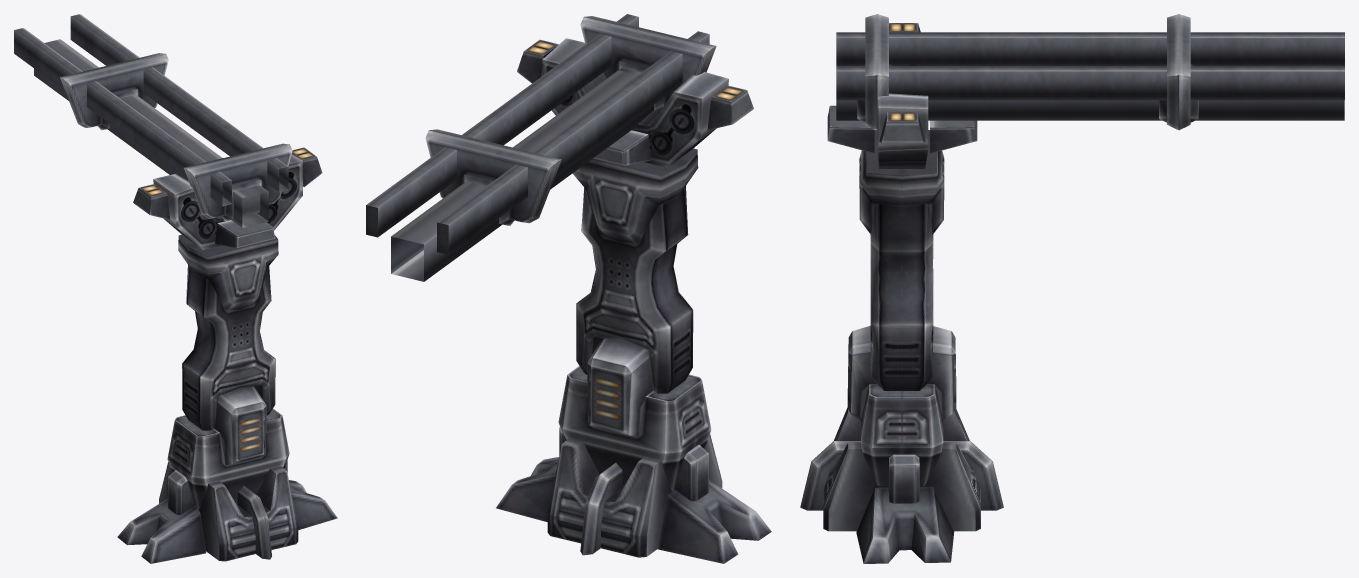
File: SM_EN_1002_gangjia01.FBX
3 views of the same model, side by side, from view 1: azimuth 30°, elevation 25°; view 2: azimuth 150°, elevation 25°; view 3: azimuth 270°, elevation 25° (orthographic). The views are drawn at different scales.
Visible parts, largest first — view 1: SM_EN_1002_gangjia01; view 2: SM_EN_1002_gangjia01; view 3: SM_EN_1002_gangjia01.
Part boxes in pixels (box(x1,y1,x2,y2)): SM_EN_1002_gangjia01: box(14, 14, 337, 563); SM_EN_1002_gangjia01: box(366, 14, 771, 563); SM_EN_1002_gangjia01: box(800, 14, 1344, 563).
Size of the model in its own units: 46.84 by 90.96 by 96.87.
